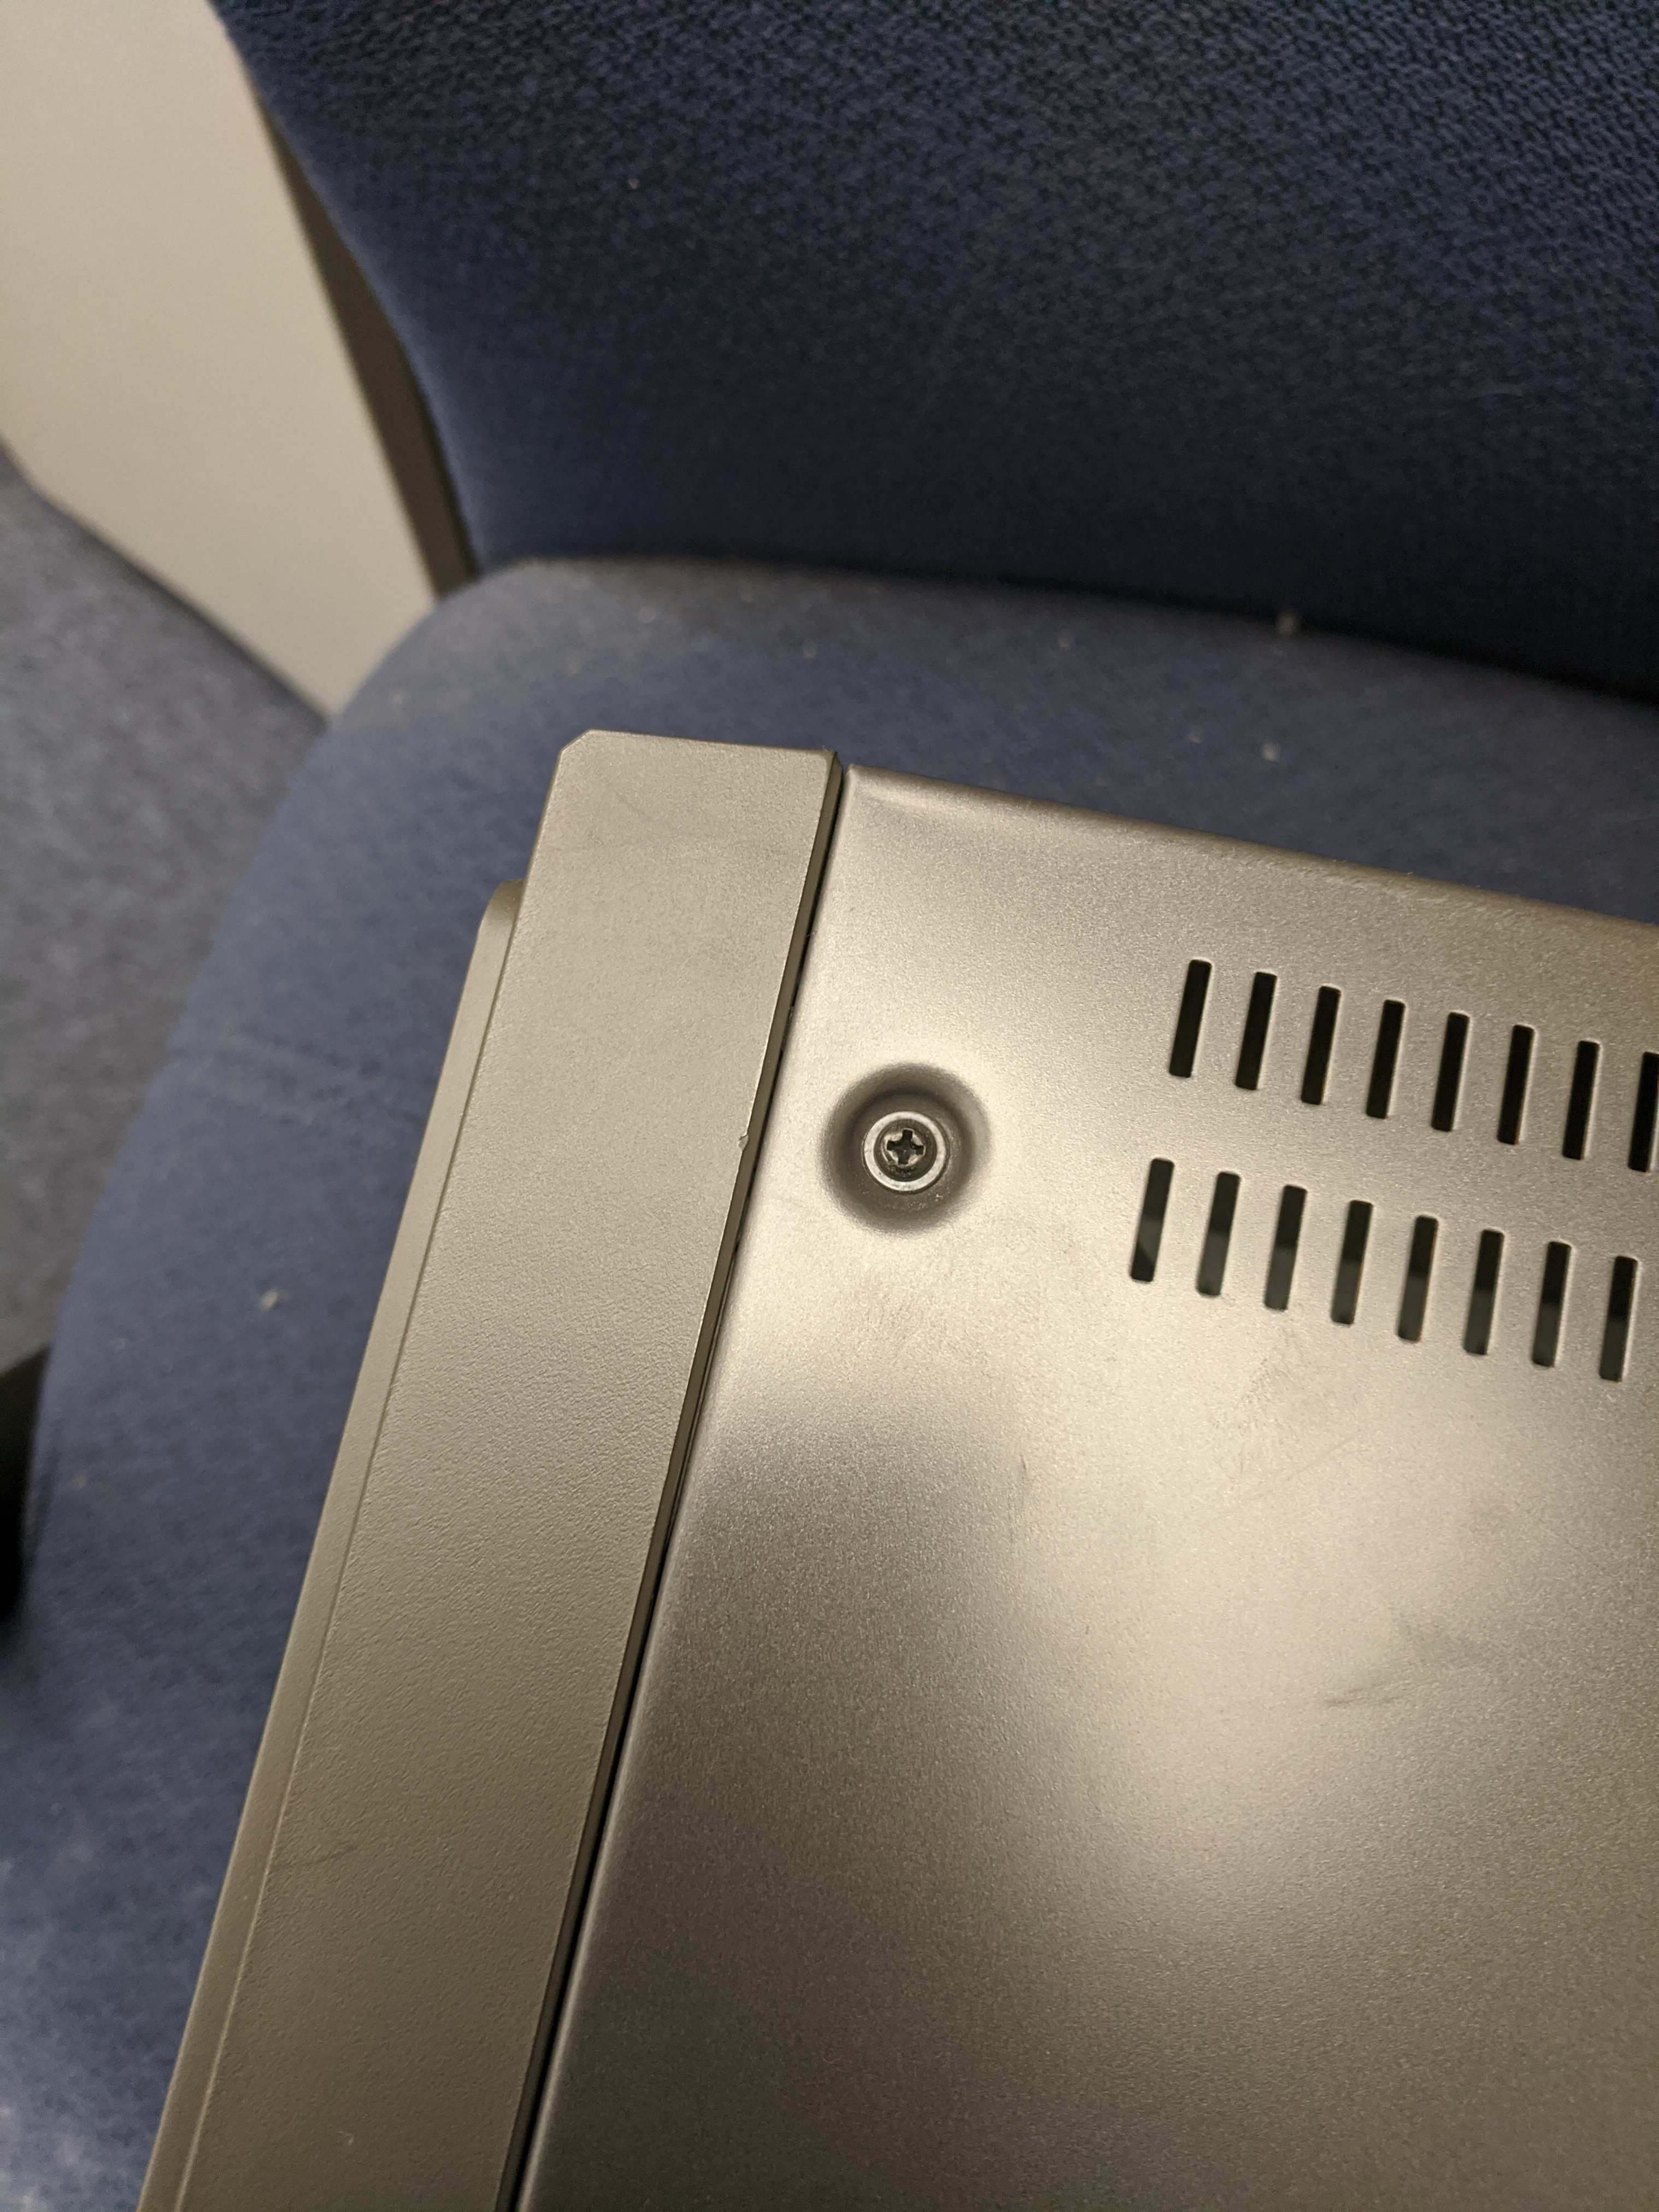cross_recessed_screw: (856, 1092, 950, 1195)
